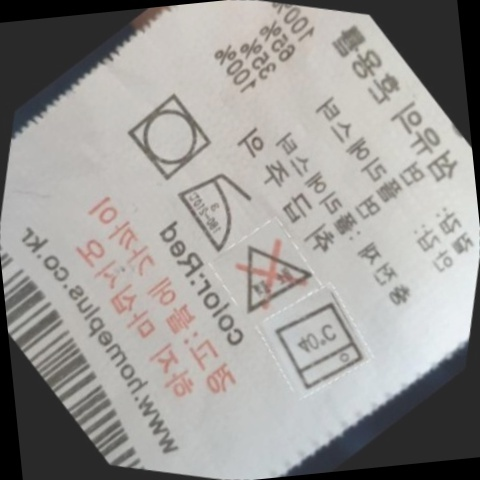40C: (258, 290, 371, 400)
iron_high: (164, 155, 256, 256)
non_chlorine_bleach: (218, 224, 318, 324)
tumble_dry_normal: (108, 75, 225, 197)
